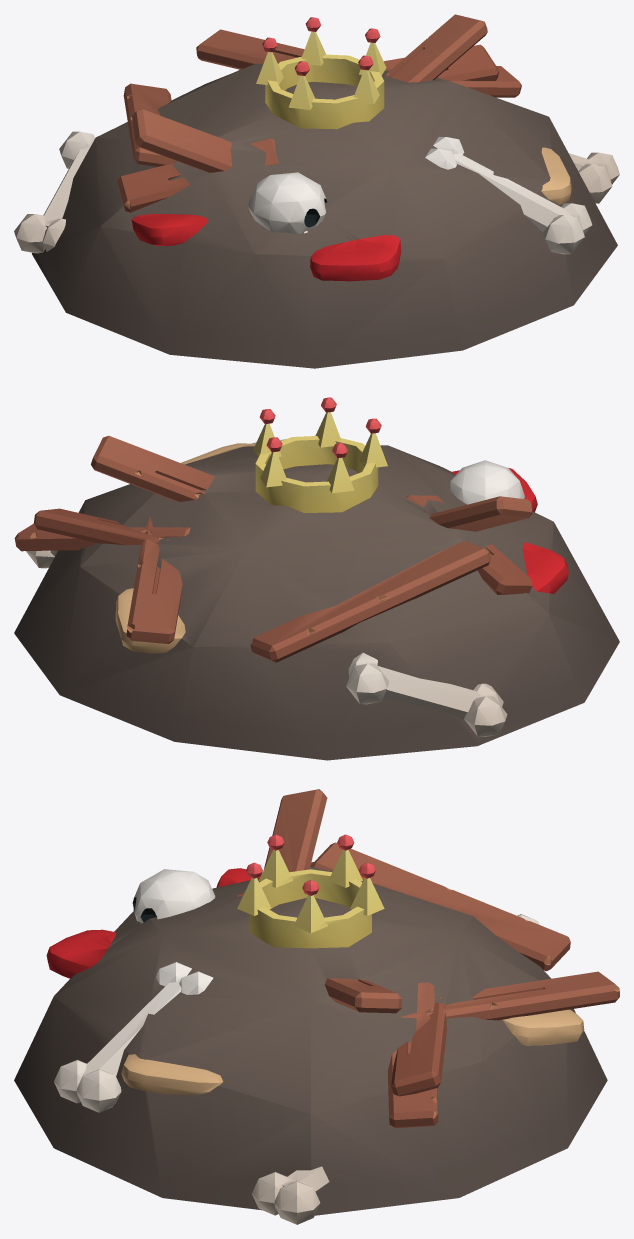
Rendered from rat_king_heap.glb.
3 views of the same model, one above another, from view 1: azimuth 30°, elevation 25°; view 2: azimuth 150°, elevation 25°; view 3: azimuth 270°, elevation 25° (orthographic). The views are drawn at different scales.
Parts seen in each view (by area): view 1: rat_king_heap; view 2: rat_king_heap; view 3: rat_king_heap.
Boxes of the visible parts, <box> form: rat_king_heap: <box>14,14,619,368</box>; rat_king_heap: <box>14,397,619,760</box>; rat_king_heap: <box>14,789,619,1224</box>.
Bounding box in the file's own units: 2.74 × 1.02 × 2.45.
Materials: 1 (1 with a texture image).
